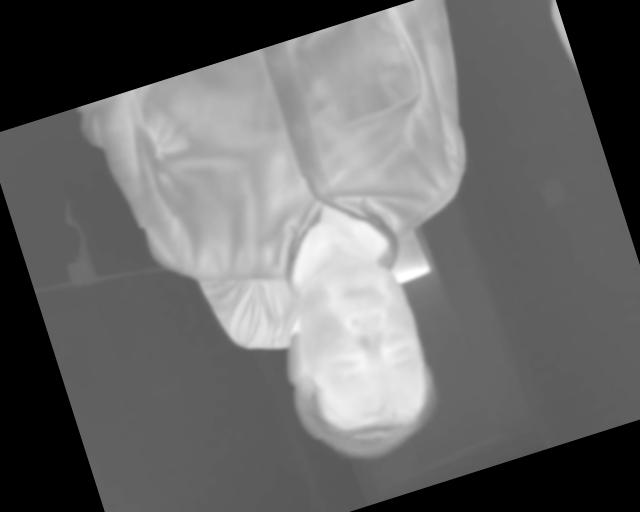face: (256, 245, 453, 480)
